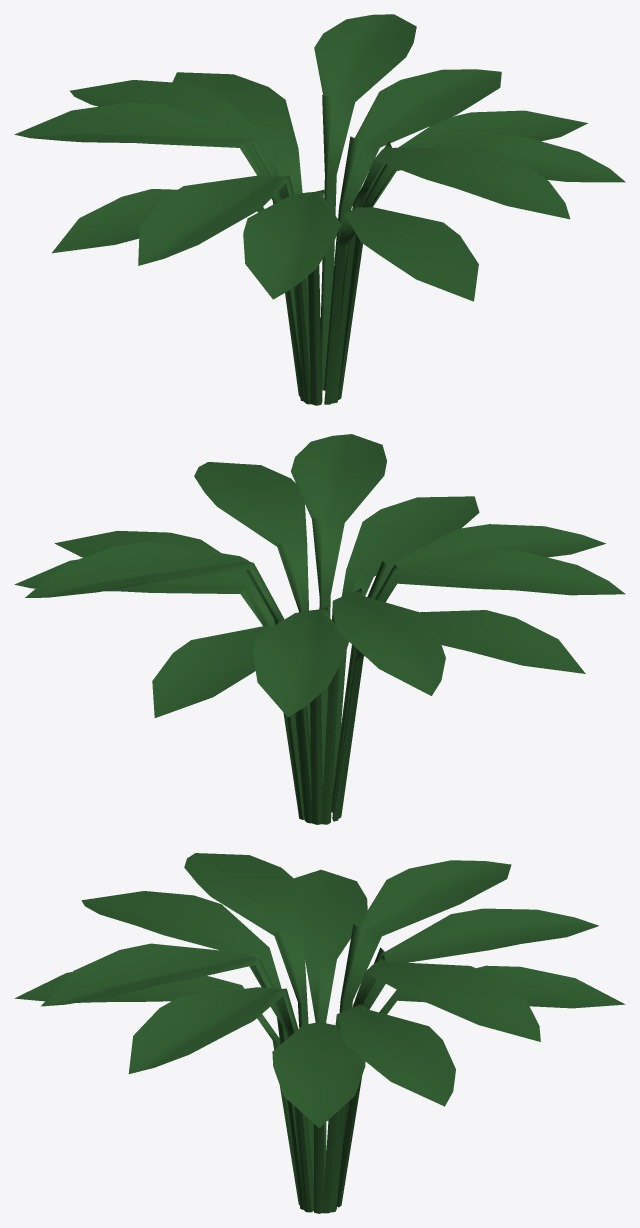
File: Plant2.fbx
3 renders of one model, top to bottom at view 1: azimuth 30°, elevation 25°; view 2: azimuth 150°, elevation 25°; view 3: azimuth 270°, elevation 25°, orthographic.
Parts seen in each view (by area): view 1: plant2; view 2: plant2; view 3: plant2.
Boxes of the visible parts, x1,y1,x2,y2 form: plant2: (14, 14, 625, 405); plant2: (14, 434, 625, 824); plant2: (14, 853, 625, 1213).
Size of the model in its own units: 88.81 by 43.76 by 88.76.
